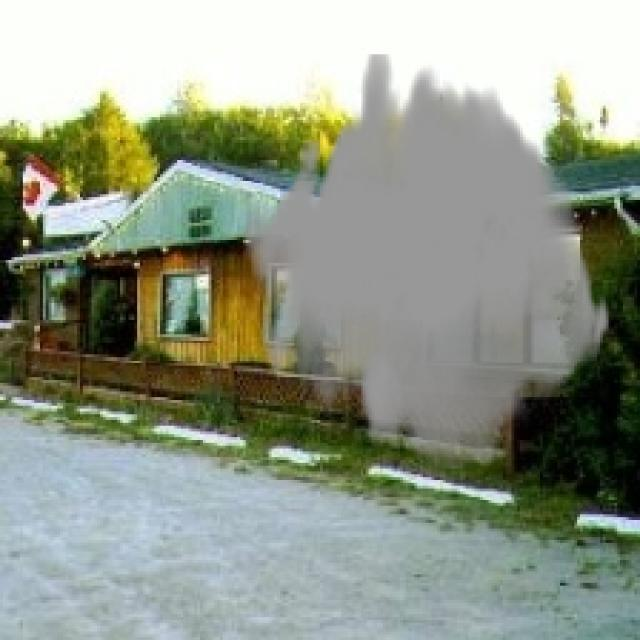Smoke: (243, 54, 612, 469)
